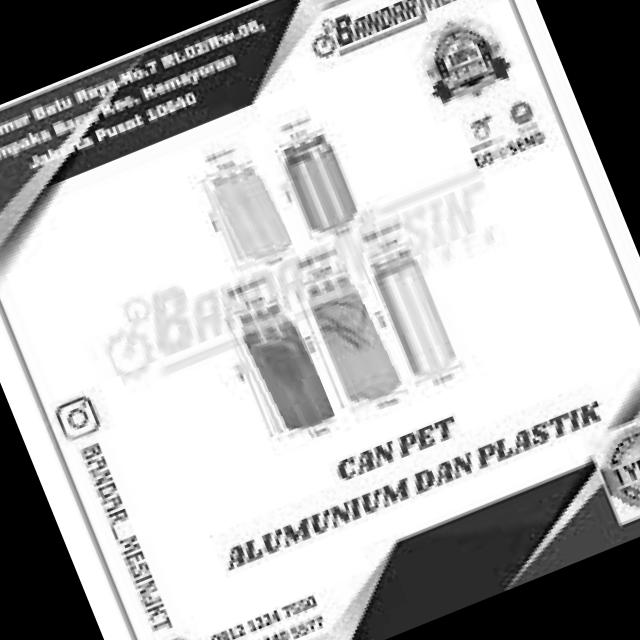plastic bottle: (213, 276, 340, 456), (302, 256, 419, 426), (197, 144, 297, 278)
